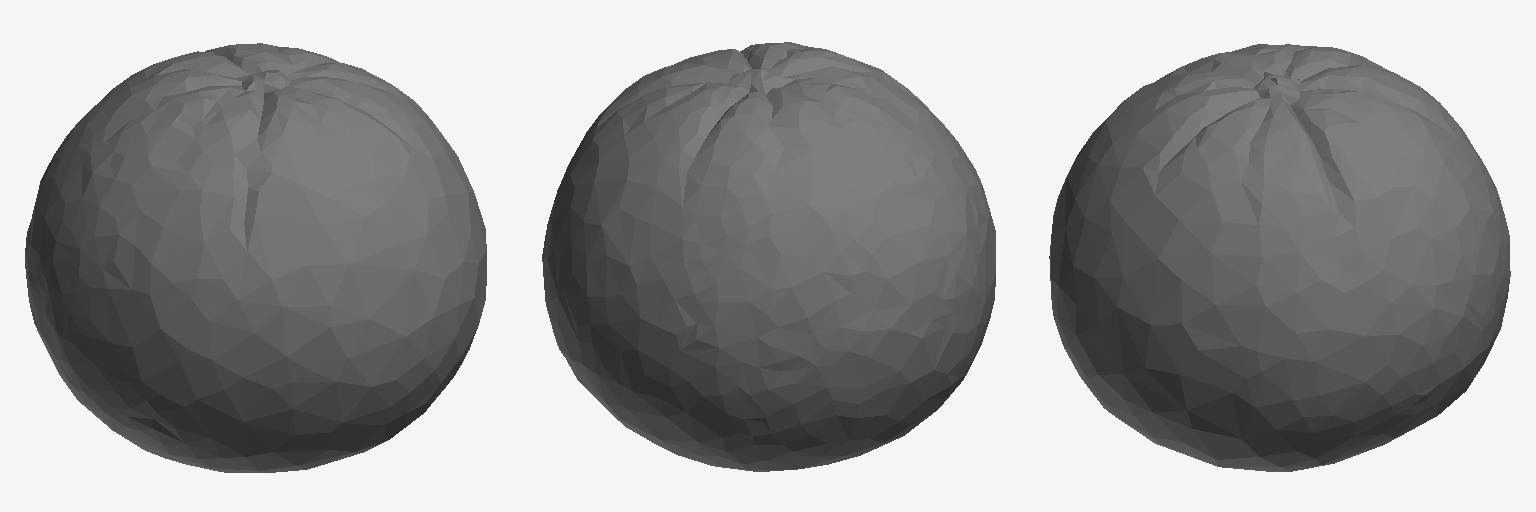
File: fr_caraOrange.obj
The picture shows the model from 3 angles: view 1: azimuth 30°, elevation 25°; view 2: azimuth 150°, elevation 25°; view 3: azimuth 270°, elevation 25°; orthographic projection.
Parts seen in each view (by area): view 1: fr_caraOrange; view 2: fr_caraOrange; view 3: fr_caraOrange.
Boxes of the visible parts, x1=… form: fr_caraOrange: x1=25, y1=43, x2=486, y2=472; fr_caraOrange: x1=542, y1=42, x2=995, y2=471; fr_caraOrange: x1=1049, y1=44, x2=1510, y2=471.
Size of the model in its own units: 0.0864 by 0.0758 by 0.0866.